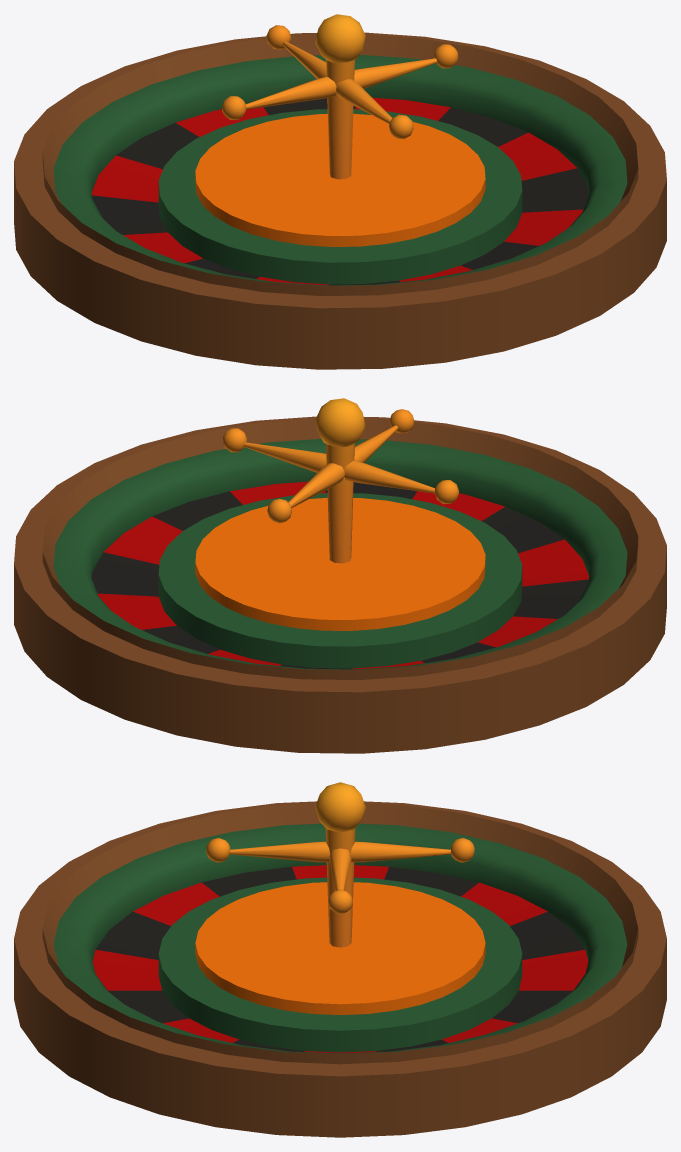
File: Rulet.fbx
The picture shows the model from 3 angles, top to bottom: view 1: azimuth 30°, elevation 25°; view 2: azimuth 150°, elevation 25°; view 3: azimuth 270°, elevation 25°; orthographic projection.
Parts seen in each view (by area): view 1: Rulet.002, Rulet, Rulet.001; view 2: Rulet.002, Rulet, Rulet.001; view 3: Rulet.002, Rulet, Rulet.001.
Boxes of the visible parts, left/top/right/bottom form: Rulet.002: left=53, top=55, right=627, bottom=285; Rulet: left=14, top=32, right=666, bottom=369; Rulet.001: left=222, top=14, right=458, bottom=179; Rulet.002: left=53, top=439, right=627, bottom=669; Rulet: left=14, top=416, right=666, bottom=753; Rulet.001: left=222, top=398, right=458, bottom=563; Rulet.002: left=53, top=823, right=627, bottom=1053; Rulet: left=14, top=801, right=666, bottom=1137; Rulet.001: left=206, top=782, right=474, bottom=947.
Size of the model in its own units: 766 by 277 by 766.
